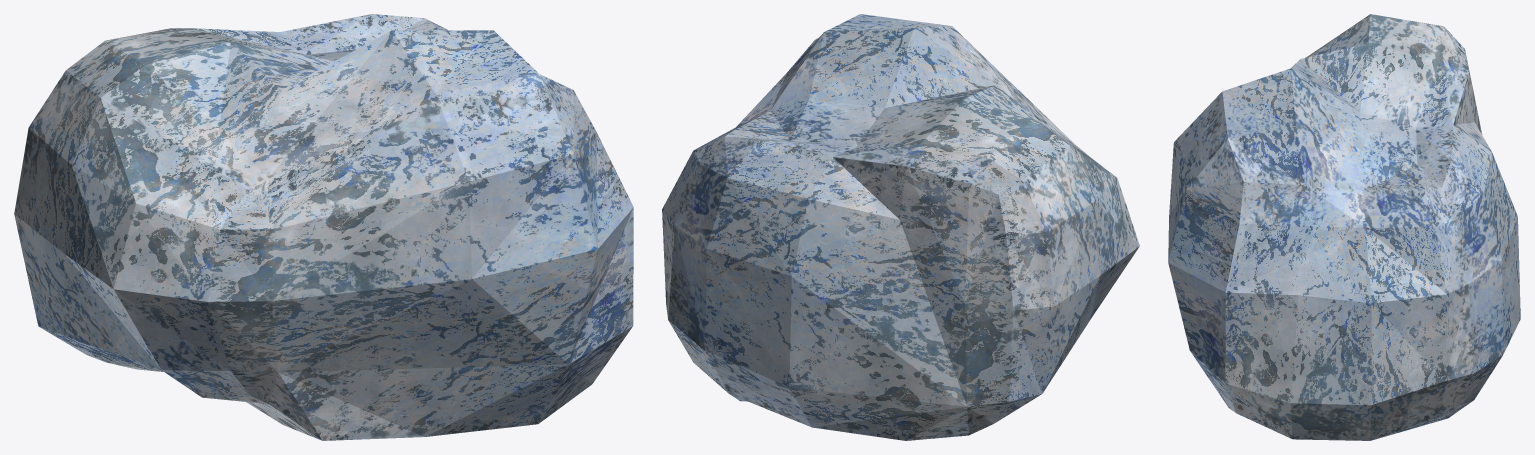
Rendered from asteroid_ice_radial_s03_l0.fbx.
3 renders of one model, left to right at view 1: azimuth 30°, elevation 25°; view 2: azimuth 150°, elevation 25°; view 3: azimuth 270°, elevation 25°, orthographic. The views are drawn at different scales.
Parts seen in each view (by area): view 1: mesh_node; view 2: mesh_node; view 3: mesh_node.
Part boxes in pixels (x1,y1,x2,y2): mesh_node: (14, 14, 633, 440); mesh_node: (662, 14, 1139, 440); mesh_node: (1168, 14, 1520, 440).
Bounding box in the file's own units: 4.71 × 3.69 × 3.63.
1 material, 1 textured.
